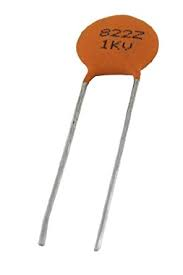ceramic capacitor: (53, 2, 170, 117)
